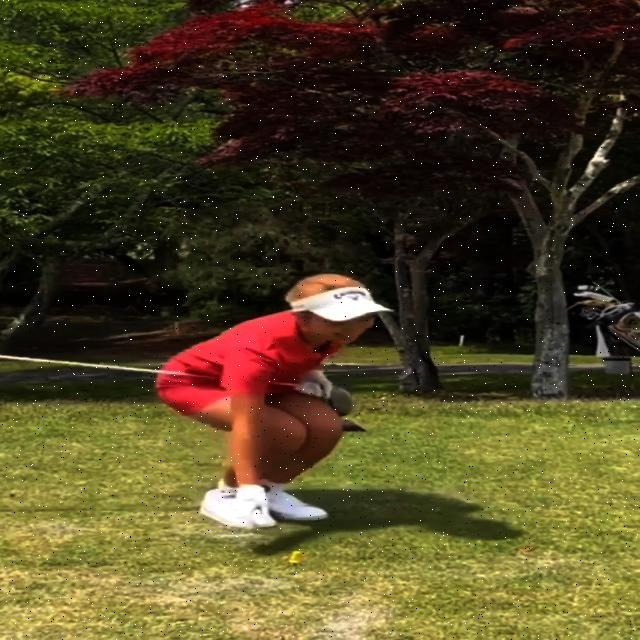ClubHandle: (0, 352, 356, 416)
ClubHead: (328, 385, 356, 414)
